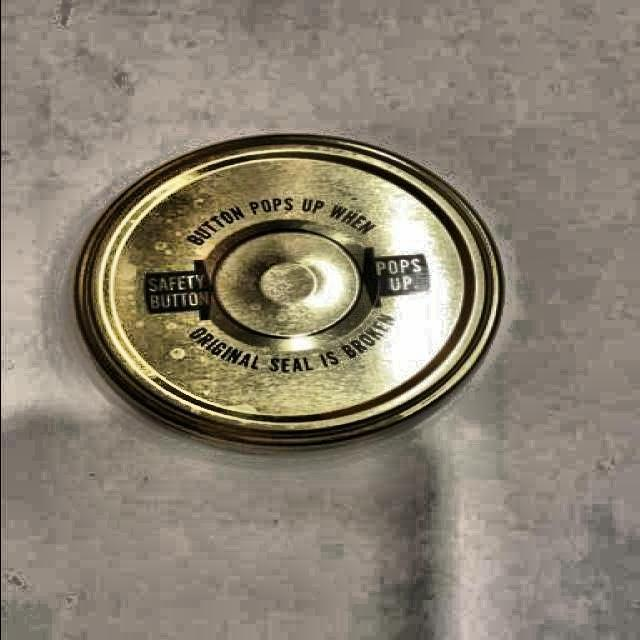metal: (73, 135, 504, 450)
